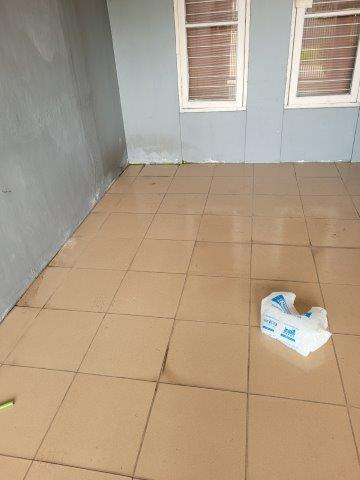plastik: (258, 290, 333, 354)
